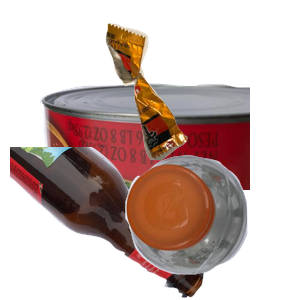glass: (10, 147, 207, 300)
metal: (37, 81, 277, 261)
plastic: (123, 152, 300, 300)
trash: (103, 21, 300, 174)
